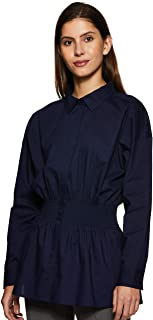shirt: (1, 82, 152, 304)
